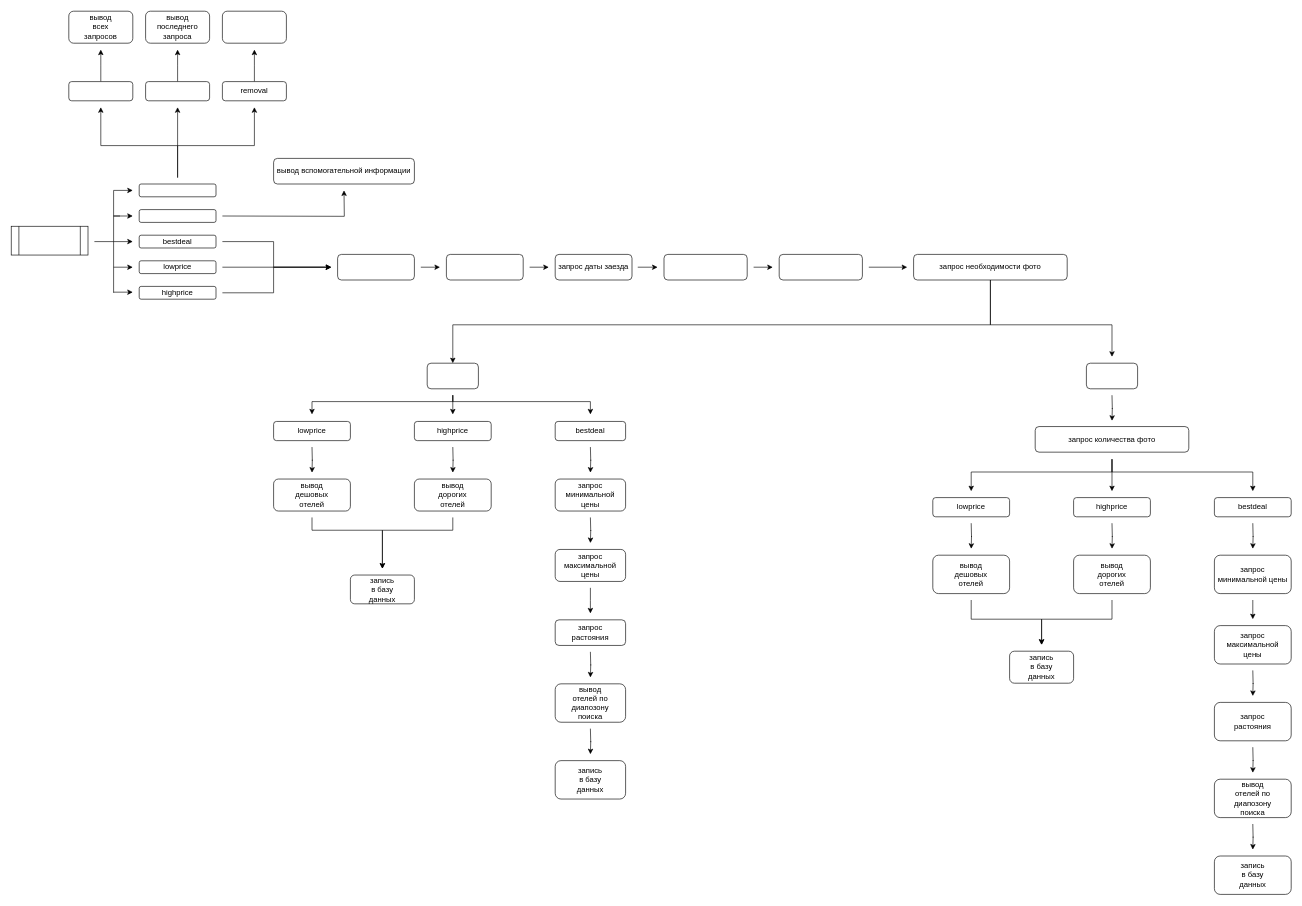
This 1302x906 diagram has some shape labels left out. Each missing label, with the centre of its shape:
"help" belongs at (x=177, y=215).
"history" belongs at (x=177, y=190).
"past" belongs at (x=177, y=91).
"whole" belongs at (x=100, y=91).
"выбор района" belongs at (x=484, y=267).
"да" belongs at (x=1112, y=376).
"запрос города" belongs at (x=375, y=267).
"запрос даты выезда" belongs at (x=705, y=267).
"запрос количества отелей" belongs at (x=820, y=267).
"начало работы" belongs at (x=49, y=240).
"нет" belongs at (x=452, y=376).
"удаление базы" belongs at (x=254, y=27).
